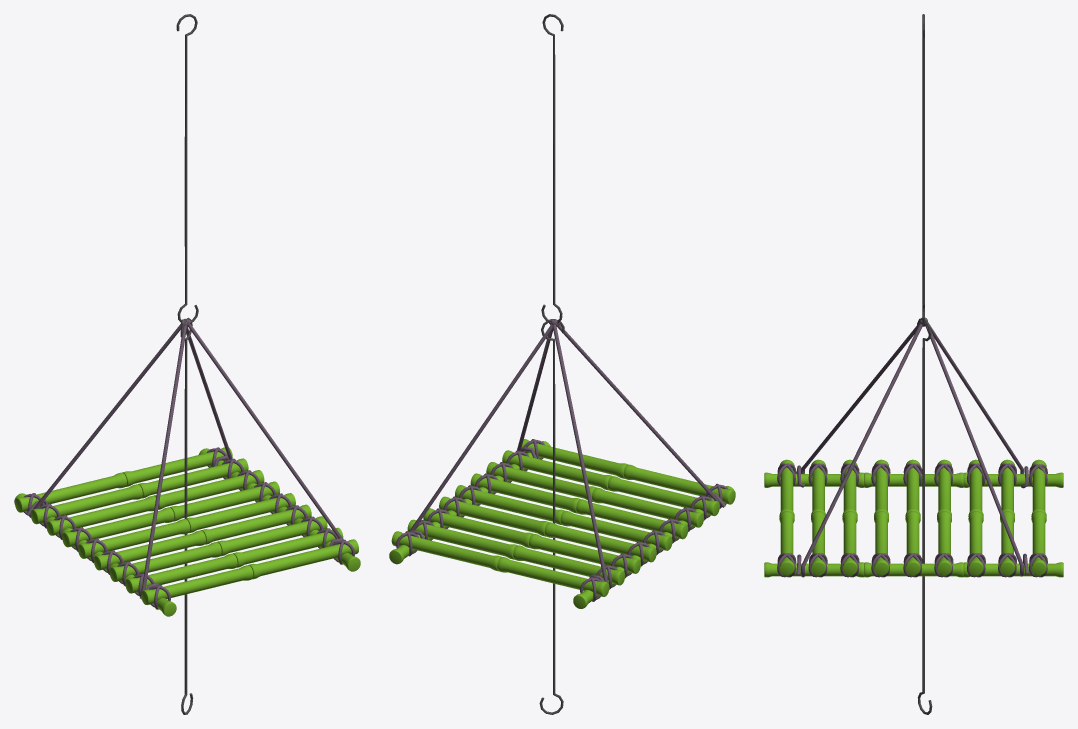
The picture shows the model from 3 angles, left to right: view 1: azimuth 30°, elevation 25°; view 2: azimuth 150°, elevation 25°; view 3: azimuth 270°, elevation 25°; orthographic projection.
Visible parts, largest first — view 1: pCylinder_15, pCube.004, pCube.002, pCube.001; view 2: pCylinder_15, pCube.004, pCube.002, pCube.001; view 3: pCylinder_15, pCube.004, pCube.002, pCube.001.
Part boxes in pixels (left/top/right/bottom): pCylinder_15: left=14, top=447, right=360, bottom=616; pCube.004: left=23, top=319, right=355, bottom=609; pCube.002: left=180, top=317, right=193, bottom=714; pCube.001: left=176, top=14, right=198, bottom=322; pCylinder_15: left=389, top=439, right=735, bottom=608; pCube.004: left=396, top=319, right=727, bottom=601; pCube.002: left=539, top=319, right=564, bottom=714; pCube.001: left=541, top=14, right=563, bottom=323; pCylinder_15: left=764, top=459, right=1063, bottom=577; pCube.004: left=777, top=317, right=1047, bottom=577; pCube.002: left=917, top=318, right=932, bottom=714; pCube.001: left=922, top=14, right=924, bottom=326.
Bounding box in the file's own units: 37.91 × 120 × 46.42.
